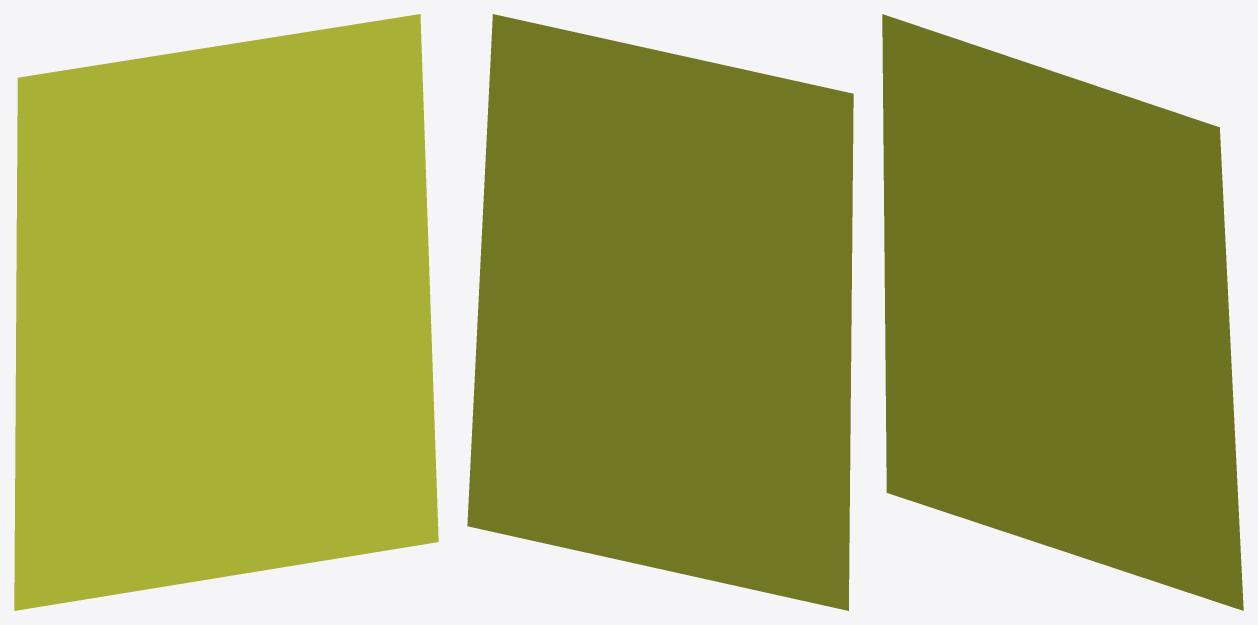
The model's file is b_polySurface749_b_BMW_i8Elite_2_737.glb.
3 renders of one model, left to right at view 1: azimuth 30°, elevation 25°; view 2: azimuth 150°, elevation 25°; view 3: azimuth 330°, elevation 25°, orthographic. The views are drawn at different scales.
Visible parts, largest first — view 1: b:polySurface749_b:BMW_i8Elite_2017CalliperGloss_Material1_0; view 2: b:polySurface749_b:BMW_i8Elite_2017CalliperGloss_Material1_0; view 3: b:polySurface749_b:BMW_i8Elite_2017CalliperGloss_Material1_0.
Boxes of the visible parts, left/top/right/bottom form: b:polySurface749_b:BMW_i8Elite_2017CalliperGloss_Material1_0: left=14, top=14, right=438, bottom=610; b:polySurface749_b:BMW_i8Elite_2017CalliperGloss_Material1_0: left=467, top=14, right=853, bottom=610; b:polySurface749_b:BMW_i8Elite_2017CalliperGloss_Material1_0: left=882, top=14, right=1243, bottom=610.
Bounding box in the file's own units: 0.023 × 0.0297 × 0.00169.
